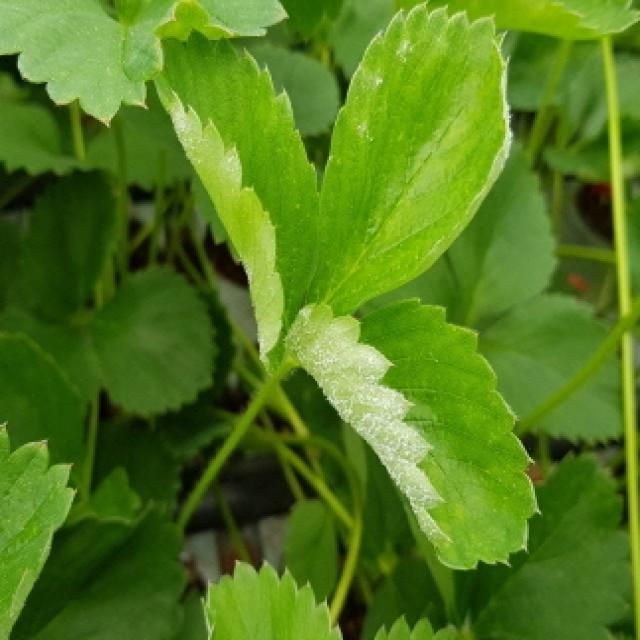Powdery Mildew Leaf: (287, 296, 540, 571), (302, 0, 515, 317), (152, 26, 321, 377)
